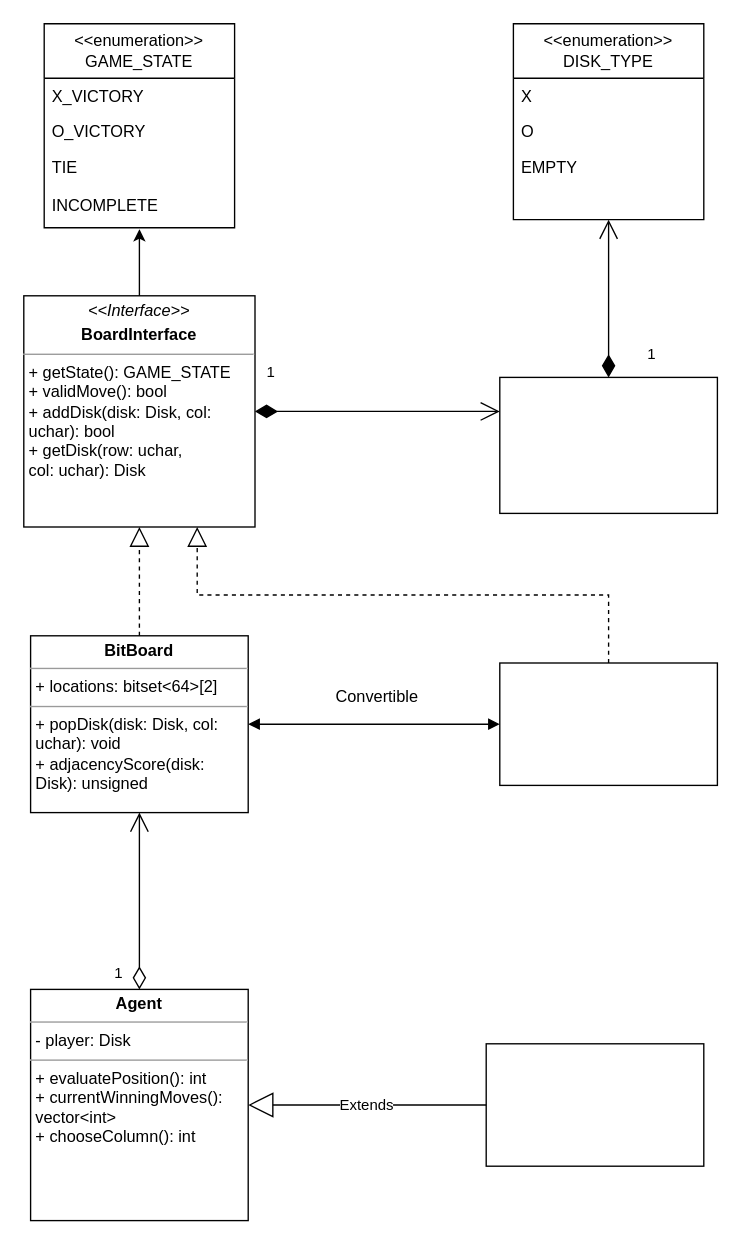
Some shapes in this 741 by 1255 pixel diagram are drawn without their labels. The shapes that lost their labels are listed below. From the top down, each one's box as (x1, y1, x2, y2) in pixels, then its label:
(498, 376, 717, 513): Disk + type: DISK_TYPE + alternate(): void + counterpart(): Disk
(498, 662, 717, 785): Board + disks: Disk[8][8] + popDisk(col: uchar): void
(485, 1042, 704, 1166): TimedAgent + moves: int + totalTime: clock_t + averageTime(): double
